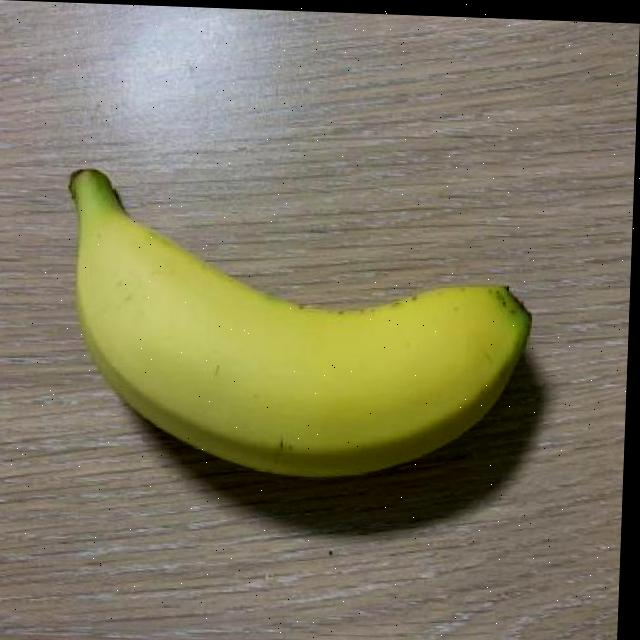banana: (47, 142, 544, 496)
